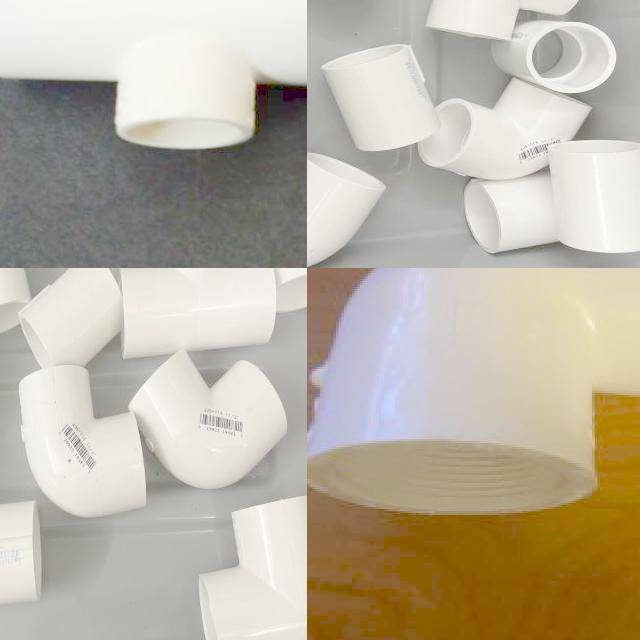L Joint: (307, 268, 640, 519), (19, 365, 149, 521), (307, 153, 387, 268)
T Joint: (200, 496, 307, 640), (119, 268, 279, 360), (424, 0, 579, 41)
